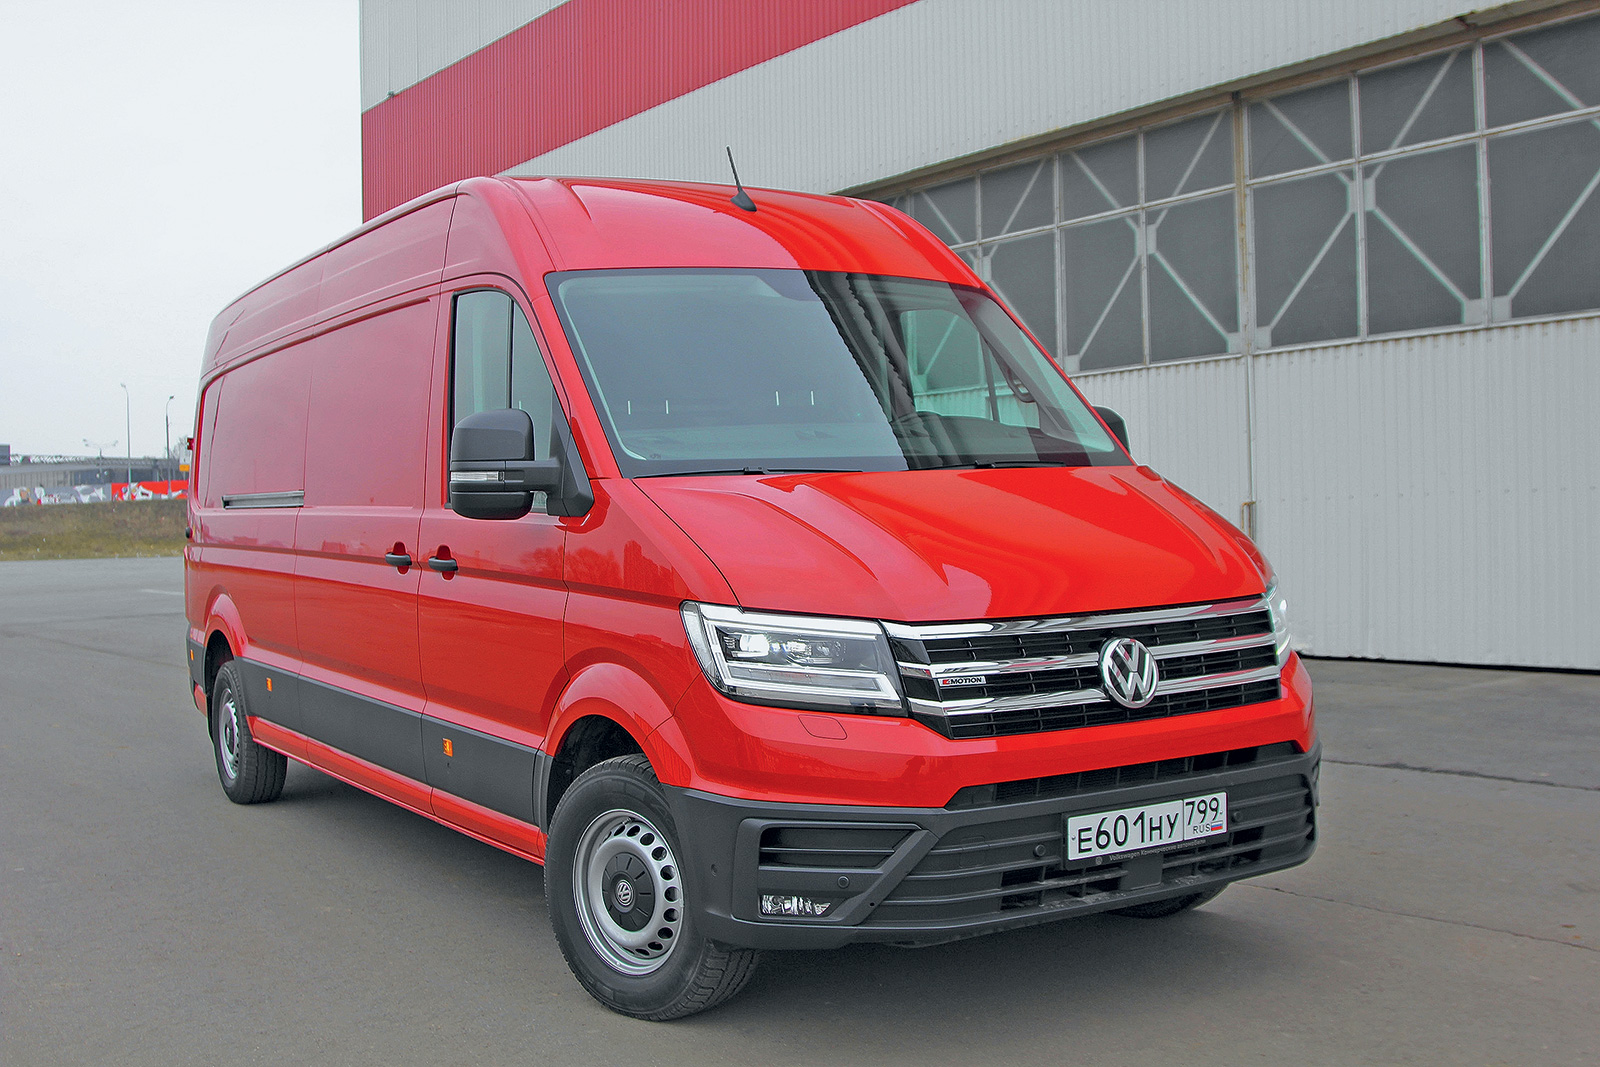van: (175, 166, 1323, 1017)
